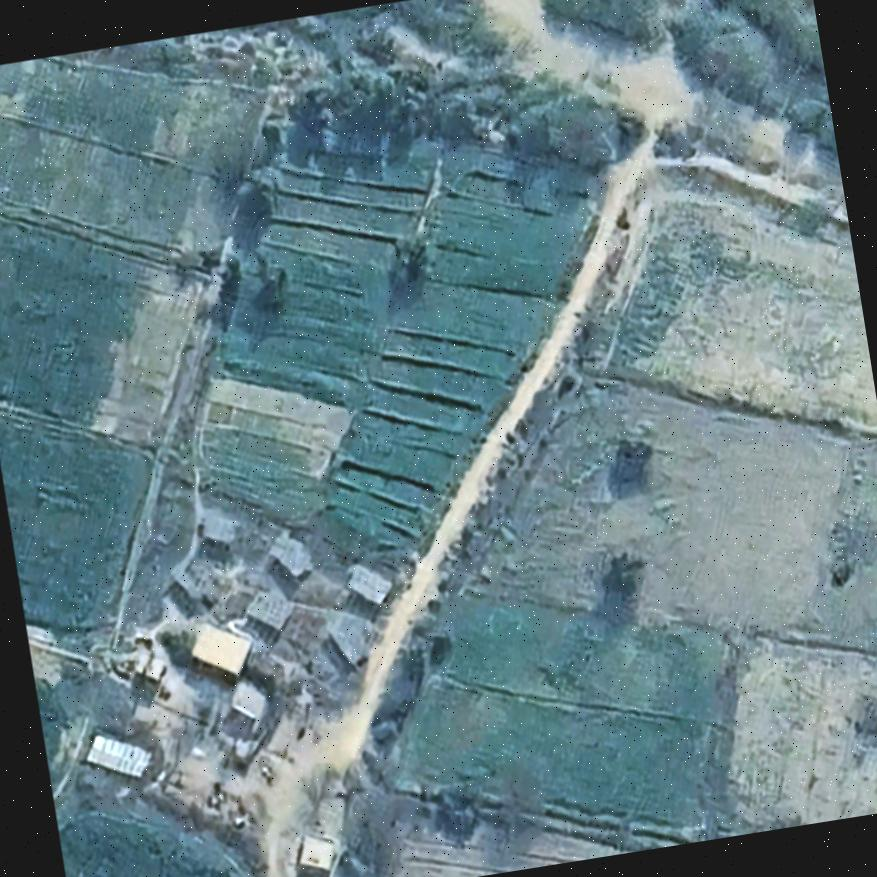Solarpanel: (77, 728, 159, 781), (241, 585, 297, 634), (342, 562, 395, 608), (271, 533, 315, 580)
